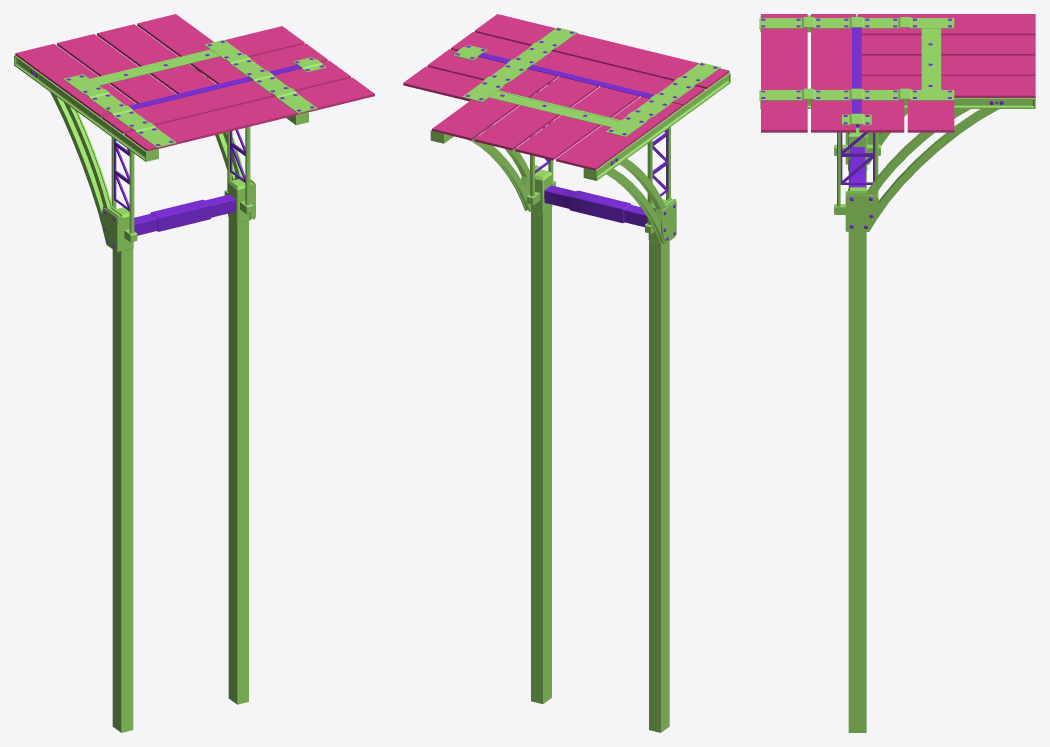
The model's file is Floor_01_Bridge_I_2x1_01_c.fbx.
3 views of the same model, side by side, from view 1: azimuth 30°, elevation 25°; view 2: azimuth 150°, elevation 25°; view 3: azimuth 270°, elevation 25° (orthographic). The views are drawn at different scales.
Parts seen in each view (by area): view 1: Cylinder.001; view 2: Cylinder.001; view 3: Cylinder.001.
Boxes of the visible parts, x1=… form: Cylinder.001: x1=14, y1=14, x2=374, y2=732; Cylinder.001: x1=403, y1=14, x2=730, y2=732; Cylinder.001: x1=759, y1=14, x2=1035, y2=732.
Bounding box in the file's own units: 155 × 401 × 155.
